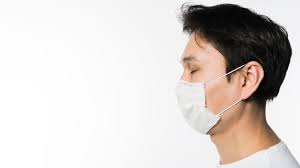masked: (147, 1, 293, 142)
